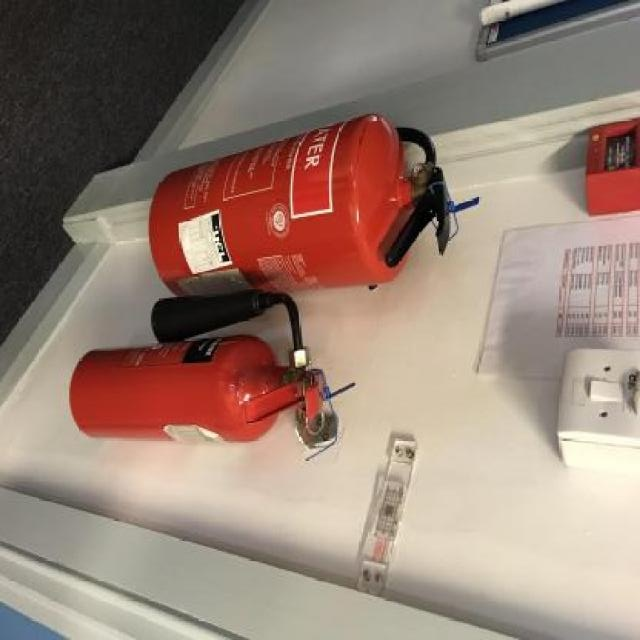fire extinguisher: (148, 111, 480, 297), (69, 289, 325, 443)
